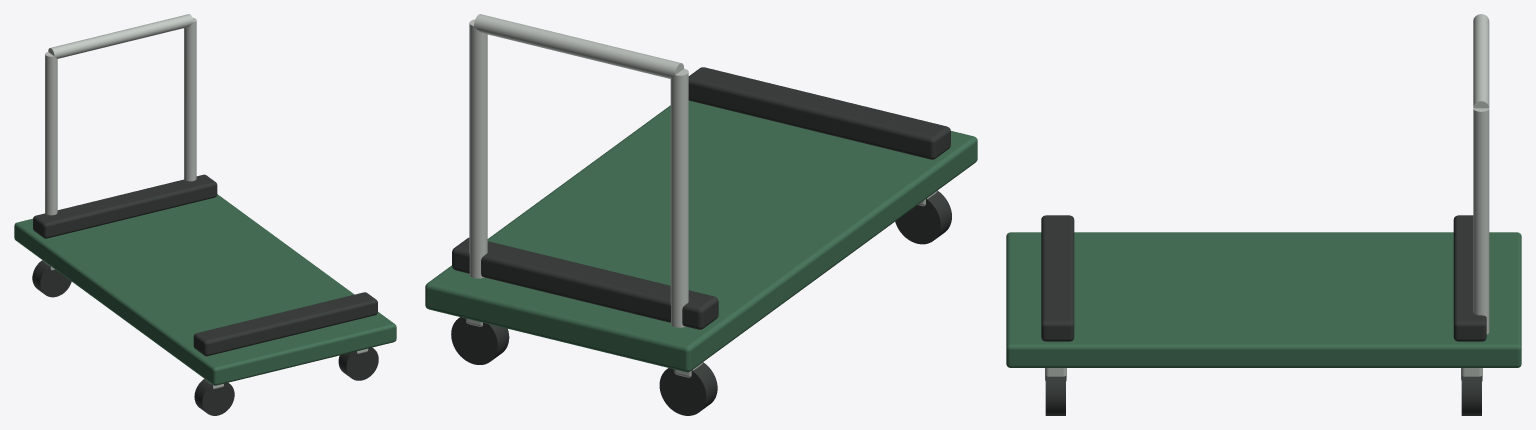
File: sawmill-and-timber-yard-lumber-handling-trolley-83e17f9e__31200.glb
3 renders of one model, left to right at view 1: azimuth 30°, elevation 25°; view 2: azimuth 150°, elevation 25°; view 3: azimuth 270°, elevation 25°, orthographic. The views are drawn at different scales.
Visible parts, largest first — view 1: lumber-handling-trolley; view 2: lumber-handling-trolley; view 3: lumber-handling-trolley.
Boxes of the visible parts, <box> form: lumber-handling-trolley: <box>14,14,396,415</box>; lumber-handling-trolley: <box>425,14,977,415</box>; lumber-handling-trolley: <box>1006,14,1521,415</box>.
Size of the model in its own units: 0.7401 by 0.932 by 1.4.
